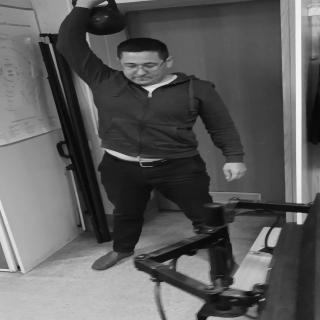kettlebell: (73, 1, 130, 37)
